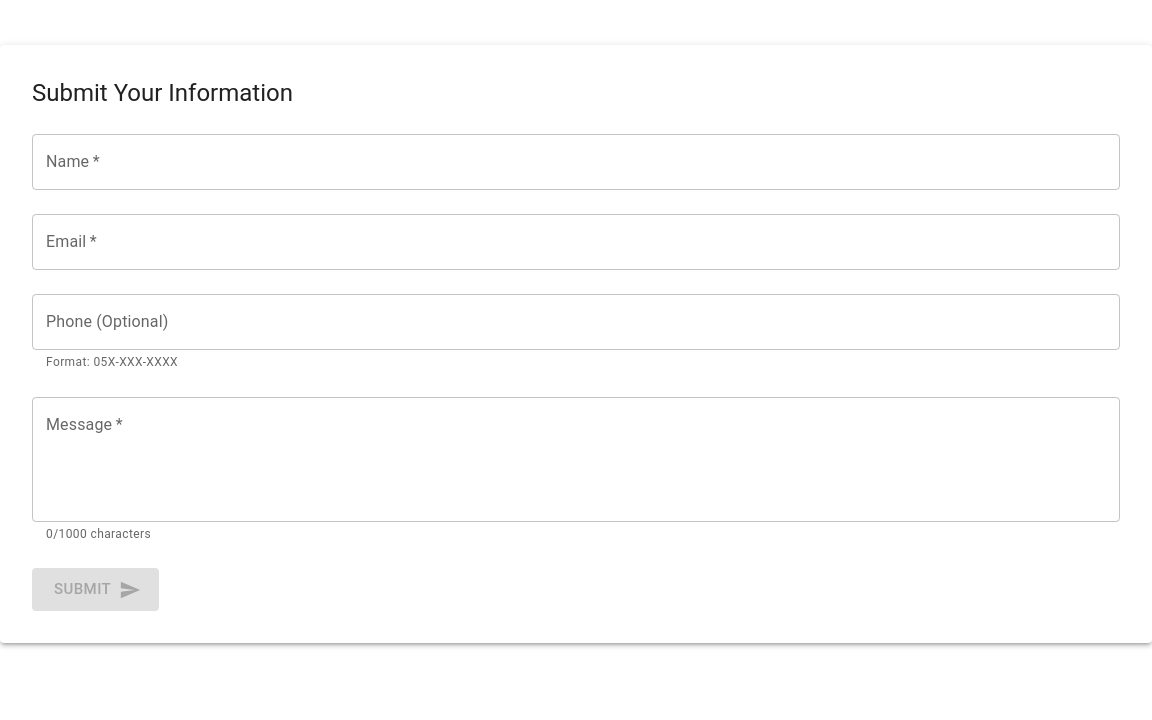
Test: SubmissionForm › Form Submission › should show success message after submission
In the field labelled "Name *": (576, 162) [32, 134, 1120, 190], type "John Doe"
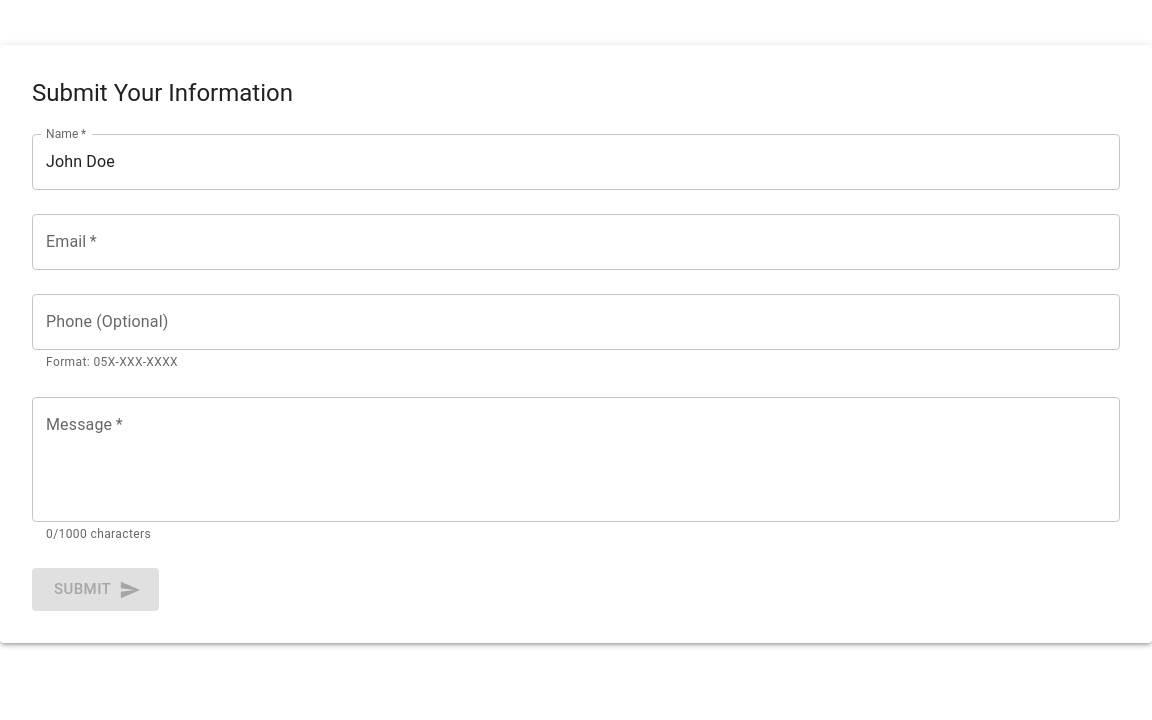
In the field labelled "Email *": (576, 242) [32, 214, 1120, 270], type "john@example.com"
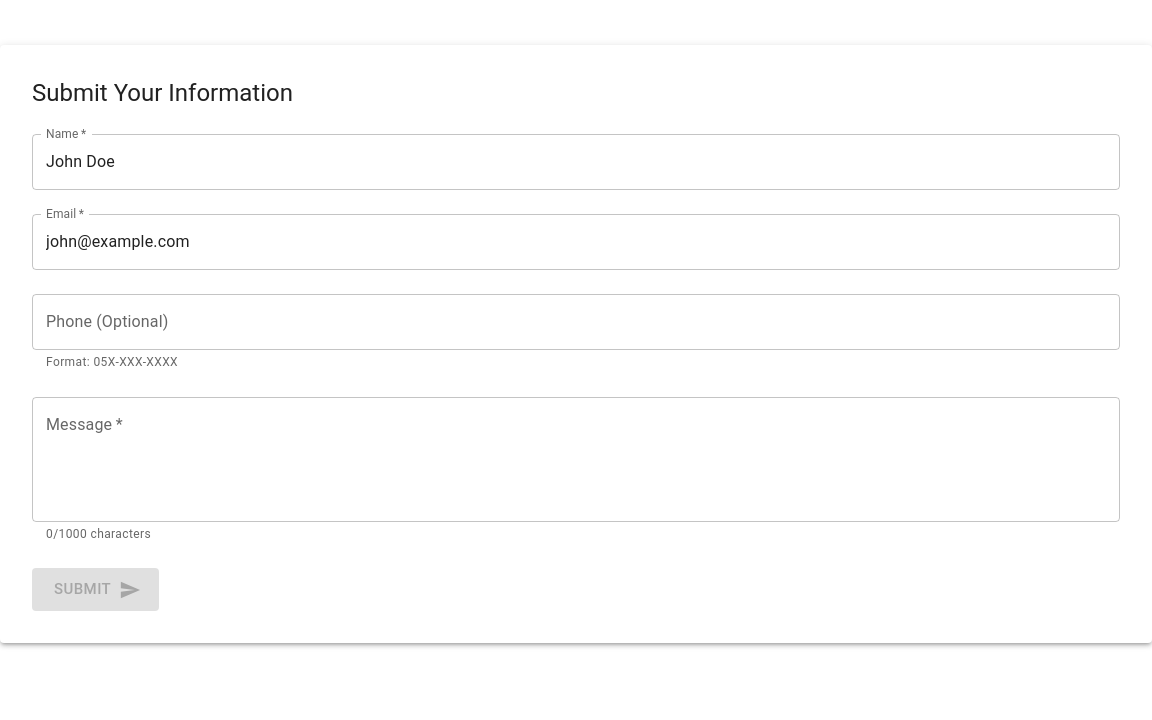
In the text box labelled "Message *": (576, 459) [46, 413, 1106, 505], type "Test message"
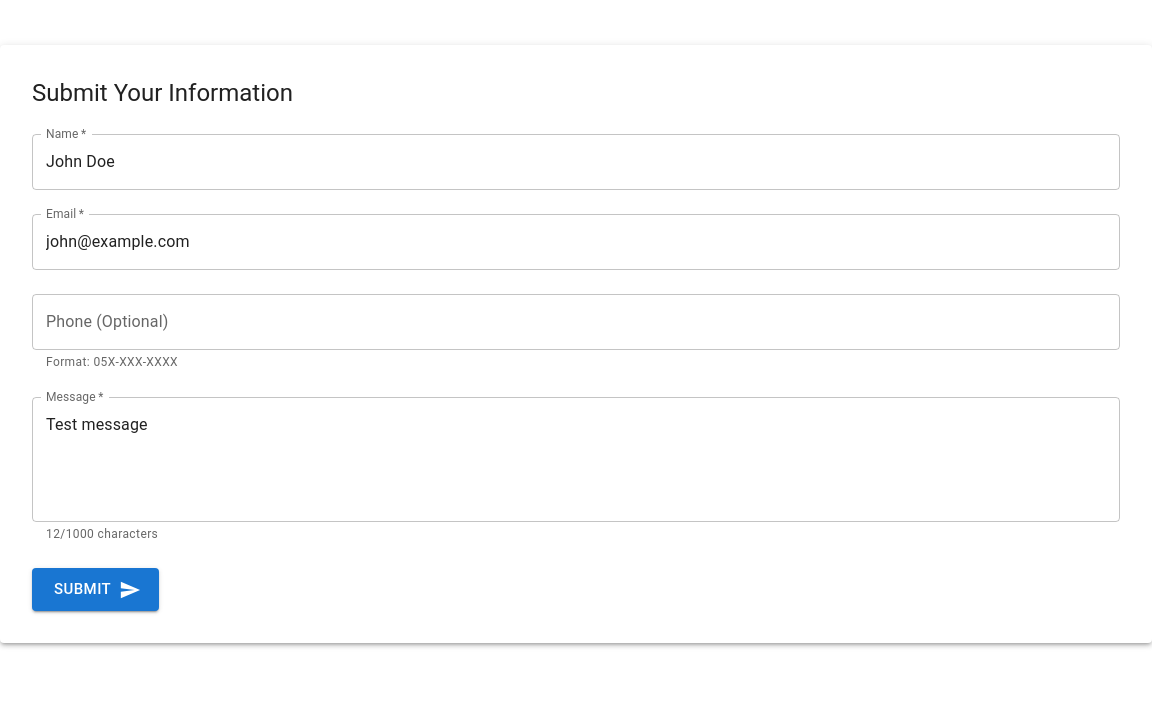
Click the button "Submit": (96, 590) [32, 568, 159, 611]
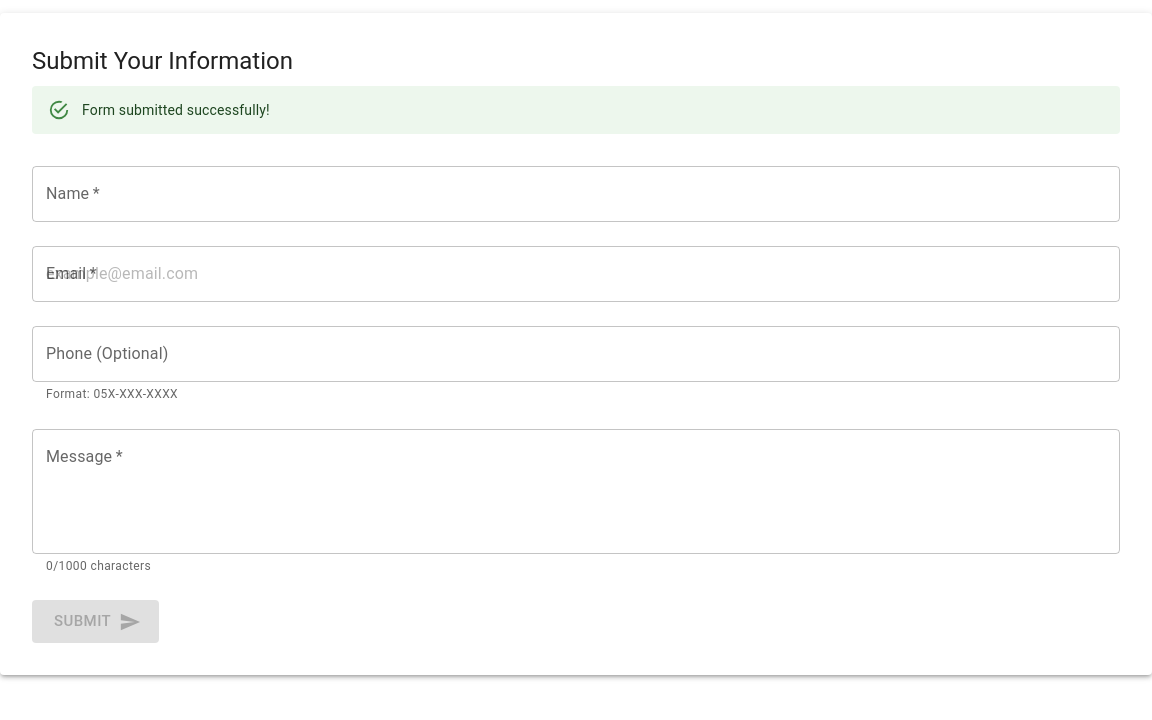
expect the text "Form submitted successfully!" is shown: met, box [82, 102, 270, 118]
